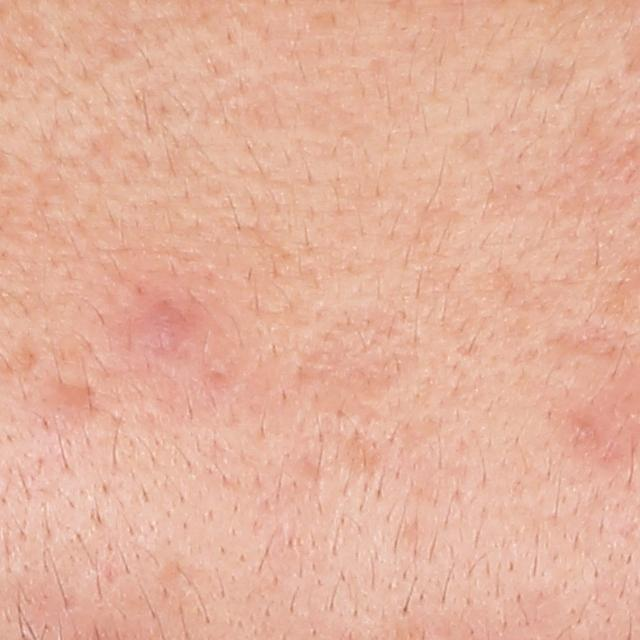atrophic_scar: (298, 308, 426, 419), (41, 379, 97, 416)
papule: (135, 298, 189, 352)
